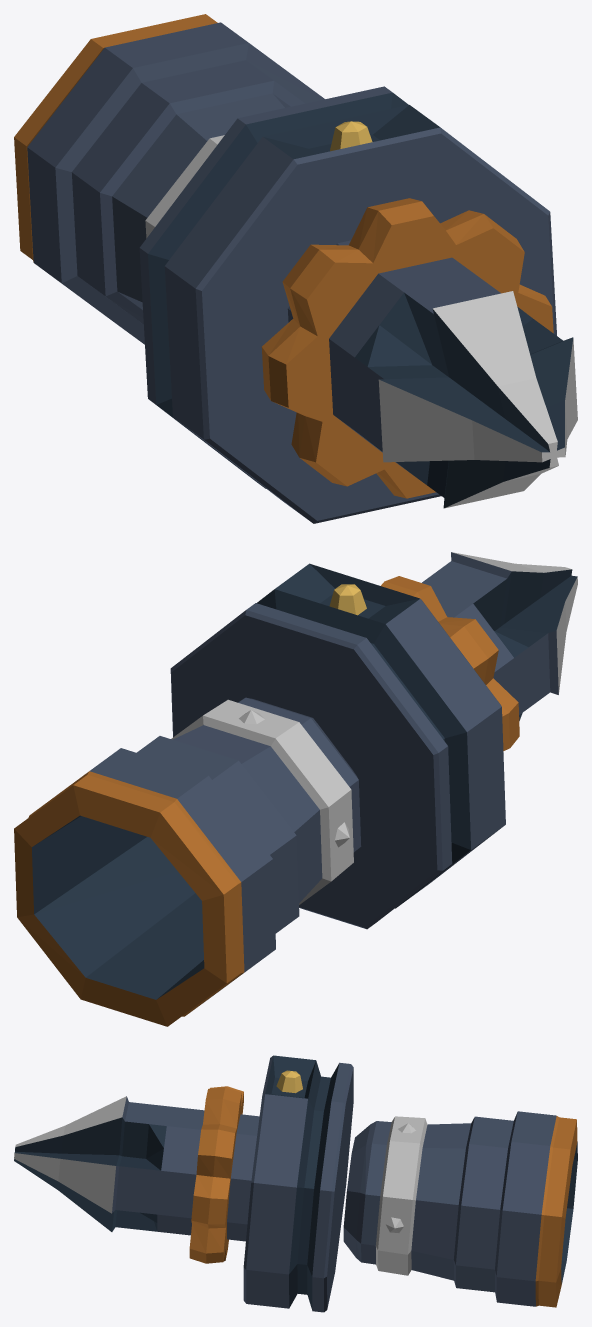
File: mechanical-finger-extender-tool-503049.glb
3 views of the same model, one above another, from view 1: azimuth 30°, elevation 25°; view 2: azimuth 150°, elevation 25°; view 3: azimuth 270°, elevation 25° (orthographic). The views are drawn at different scales.
Visible parts, largest first — view 1: driver, extender-tool; view 2: driver, extender-tool; view 3: driver, extender-tool.
Part boxes in pixels (x1,y1,x2,y2): driver: (139,86,577,523); extender-tool: (14,14,324,344); driver: (170,552,577,929); extender-tool: (14,697,361,1026); driver: (14,1055,353,1312); extender-tool: (343,1111,577,1307).
Size of the model in its own units: 0.0265 by 0.027 by 0.0627.
